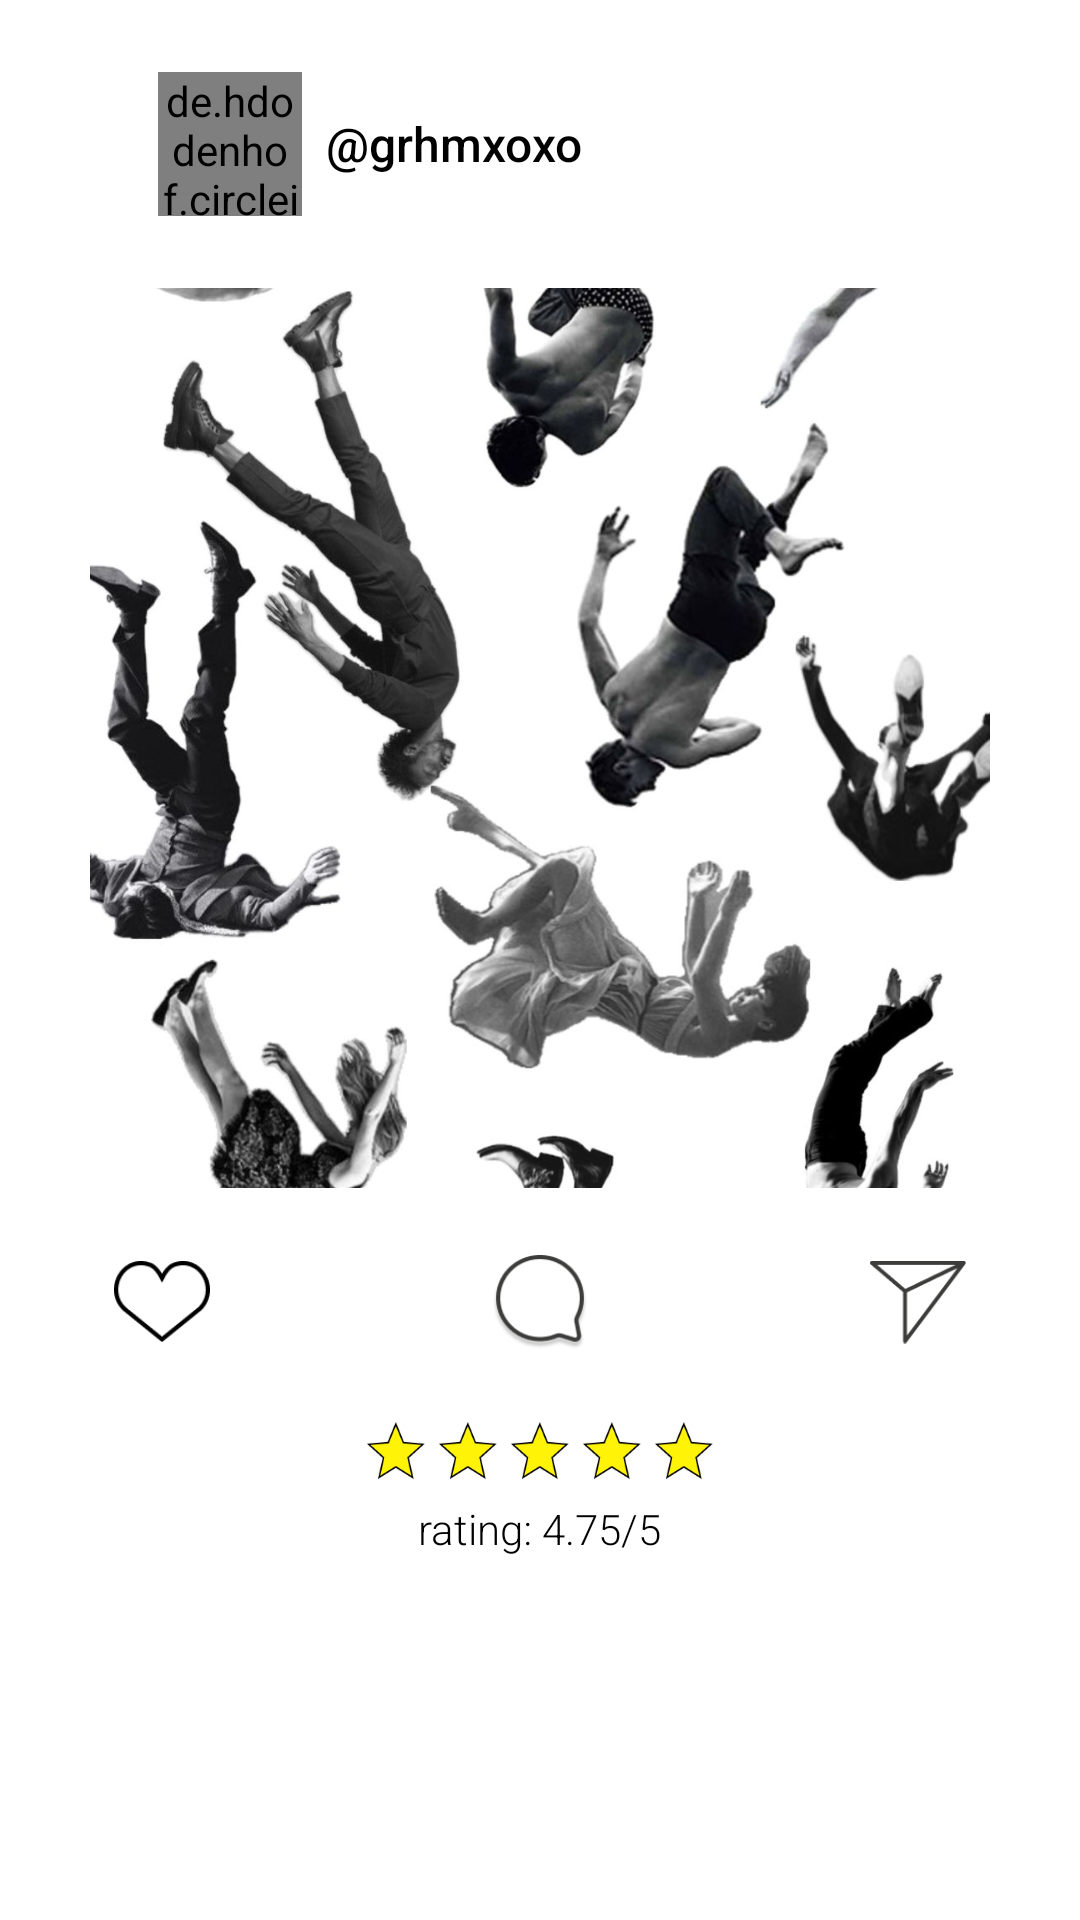

Where to tap for icons on this 1080*1920 app screen, as point (x, y):
social comment: point (540, 1300)
social heart: point (162, 1301)
social share: point (918, 1302)
social star: point (396, 1450), point (468, 1450), point (540, 1450), point (612, 1450), point (684, 1450)
